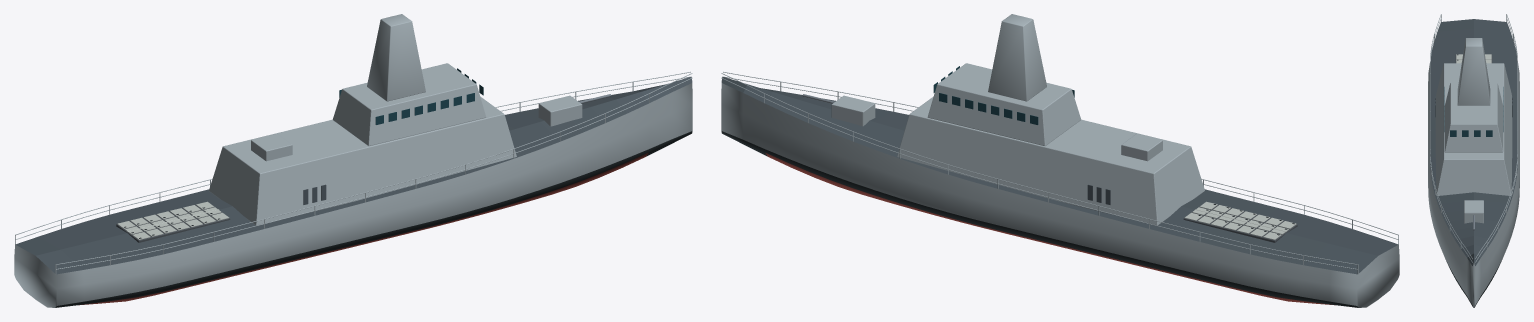
Rendered from rfn_fsg_buyan_m.glb.
3 views of the same model, side by side, from view 1: azimuth 30°, elevation 25°; view 2: azimuth 150°, elevation 25°; view 3: azimuth 270°, elevation 25° (orthographic). The views are drawn at different scales.
Visible parts, largest first — view 1: rfn_fsg_buyan_m; view 2: rfn_fsg_buyan_m; view 3: rfn_fsg_buyan_m.
Boxes of the visible parts, x1,y1,x2,y2 form: rfn_fsg_buyan_m: (14,14,692,307); rfn_fsg_buyan_m: (721,14,1399,307); rfn_fsg_buyan_m: (1428,14,1519,307).
Bounding box in the file's own units: 10 × 2.95 × 1.5.
